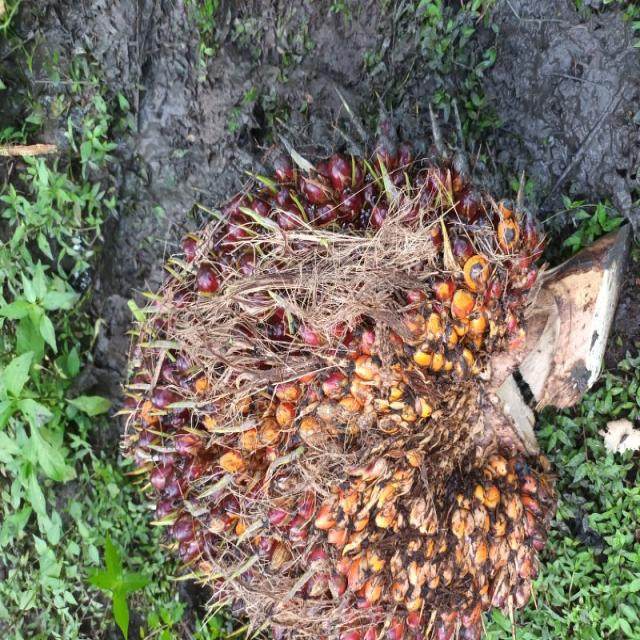fraksi 1: (85, 136, 580, 640)
